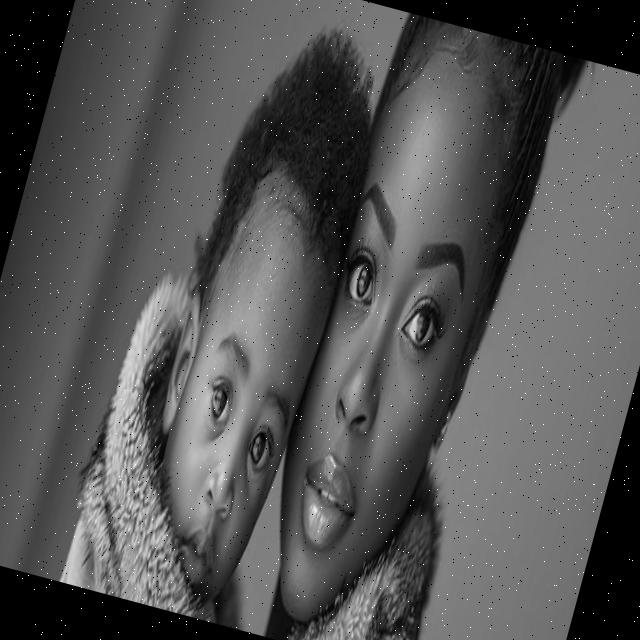Neutral: (126, 197, 349, 626)
